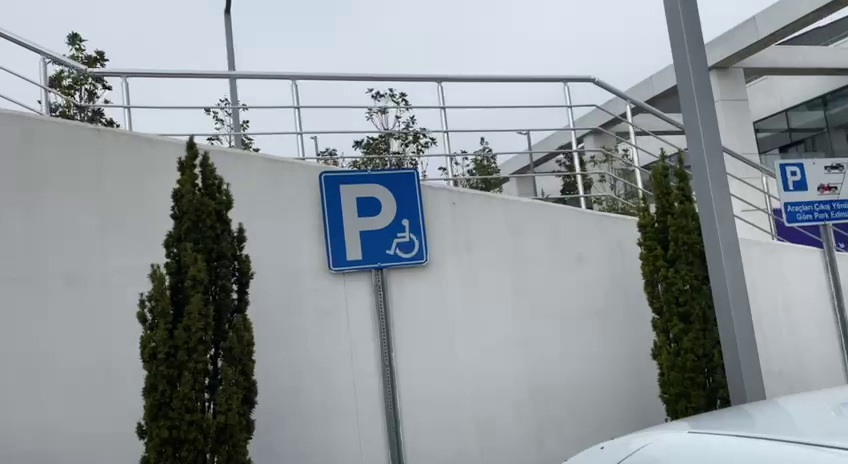parking: (317, 167, 432, 273), (777, 160, 811, 192)
